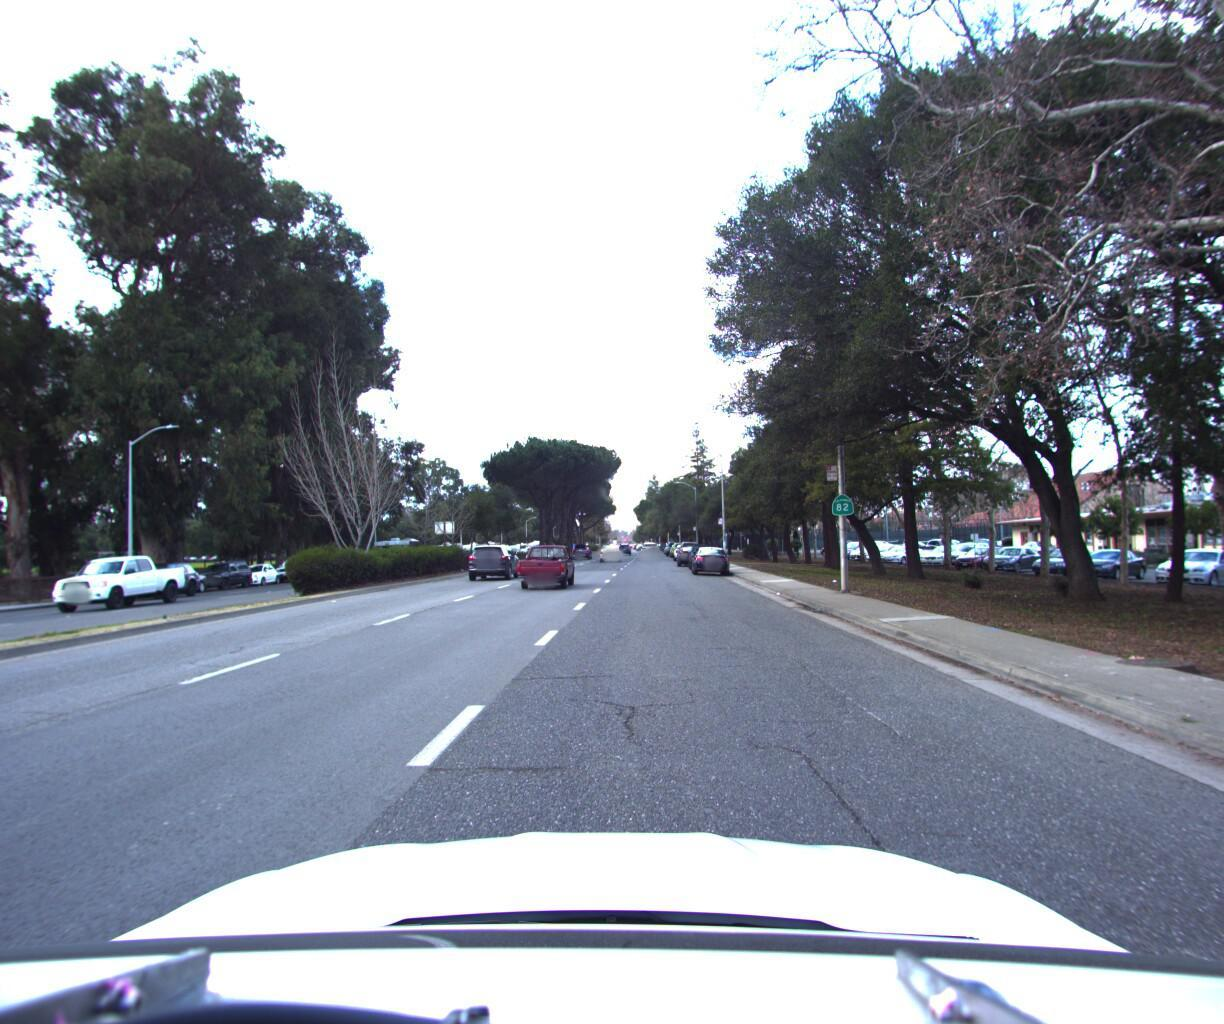car: (41, 552, 195, 617), (111, 556, 205, 600), (510, 538, 577, 588), (186, 553, 262, 592), (134, 564, 212, 598), (467, 538, 525, 577), (232, 557, 293, 586), (271, 552, 327, 581), (688, 539, 730, 573), (685, 537, 719, 564), (674, 540, 701, 561), (599, 537, 623, 559), (572, 537, 593, 555), (641, 535, 659, 552)
